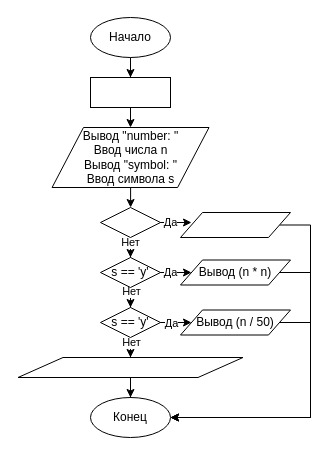
Image size: 336x455. Some labels were removed from this diagram. The shapes that lost their labels are listed below. From the top down, each one's centre as x and y in pixels, then its label:
point (130, 92): Число n Символ s
point (130, 222): s == 'x'
point (235, 225): Вывод (n * 10)
point (130, 367): Вывод "Unknown operation\n
